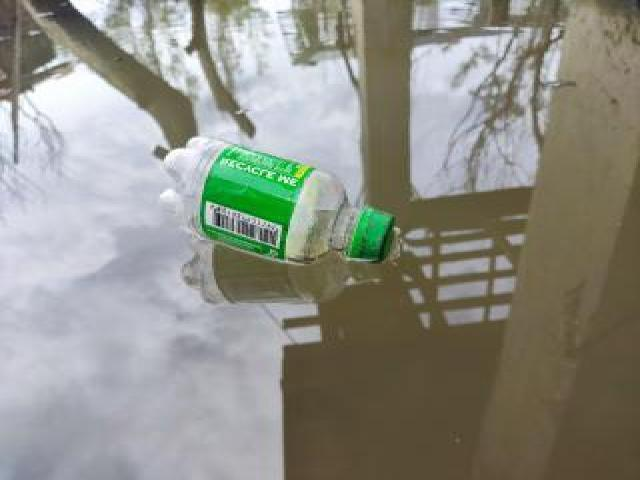Bottle: (150, 116, 410, 280)
